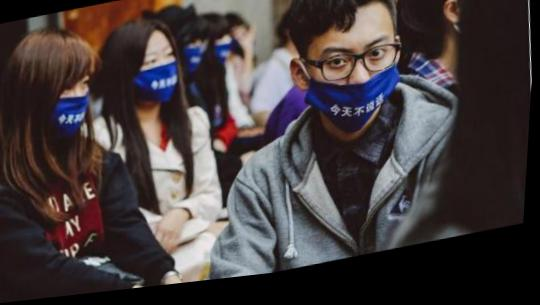OK: (38, 64, 109, 137), (130, 43, 186, 108), (173, 36, 210, 84), (207, 36, 237, 72)
WRONG: (310, 35, 407, 136)
